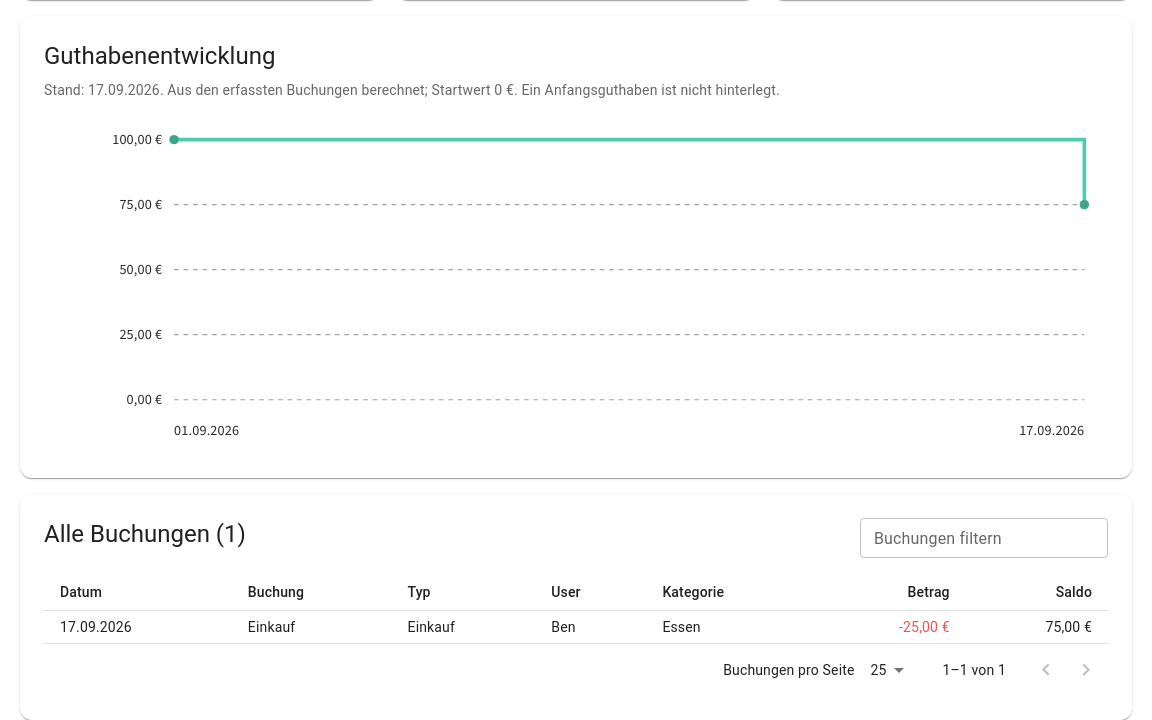
Scenario: account links show cash development and attributable bookings, not the editor
(page scrolled)
expect the table named "Kontobuchungen" is shown: met, box x1=44 y1=574 x2=1108 y2=644
expect the picture named "Guthabenentwicklung in Euro" is shown: met, box x1=44 y1=116 x2=1108 y2=448
In the field labelled "Buchungen filtern": (984,538) x1=860 y1=518 x2=1108 y2=558, type "nicht vorhanden"
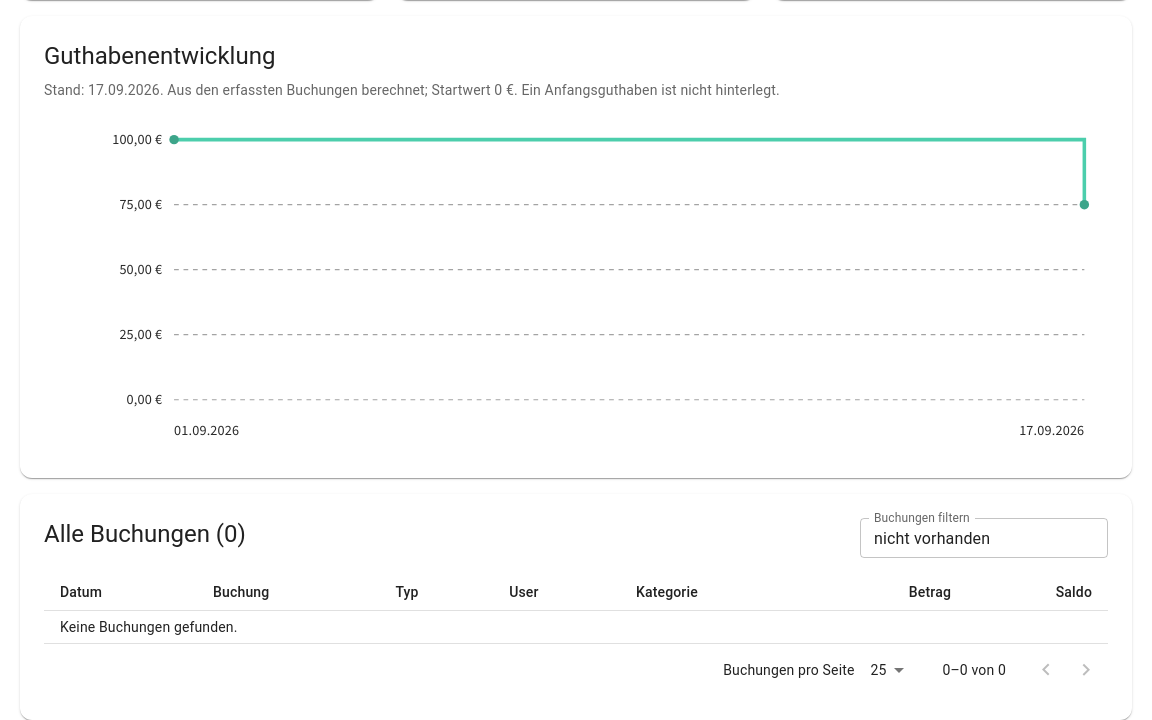
expect the text "Keine Buchungen gefunden." is shown: met, box x1=44 y1=611 x2=1108 y2=644
